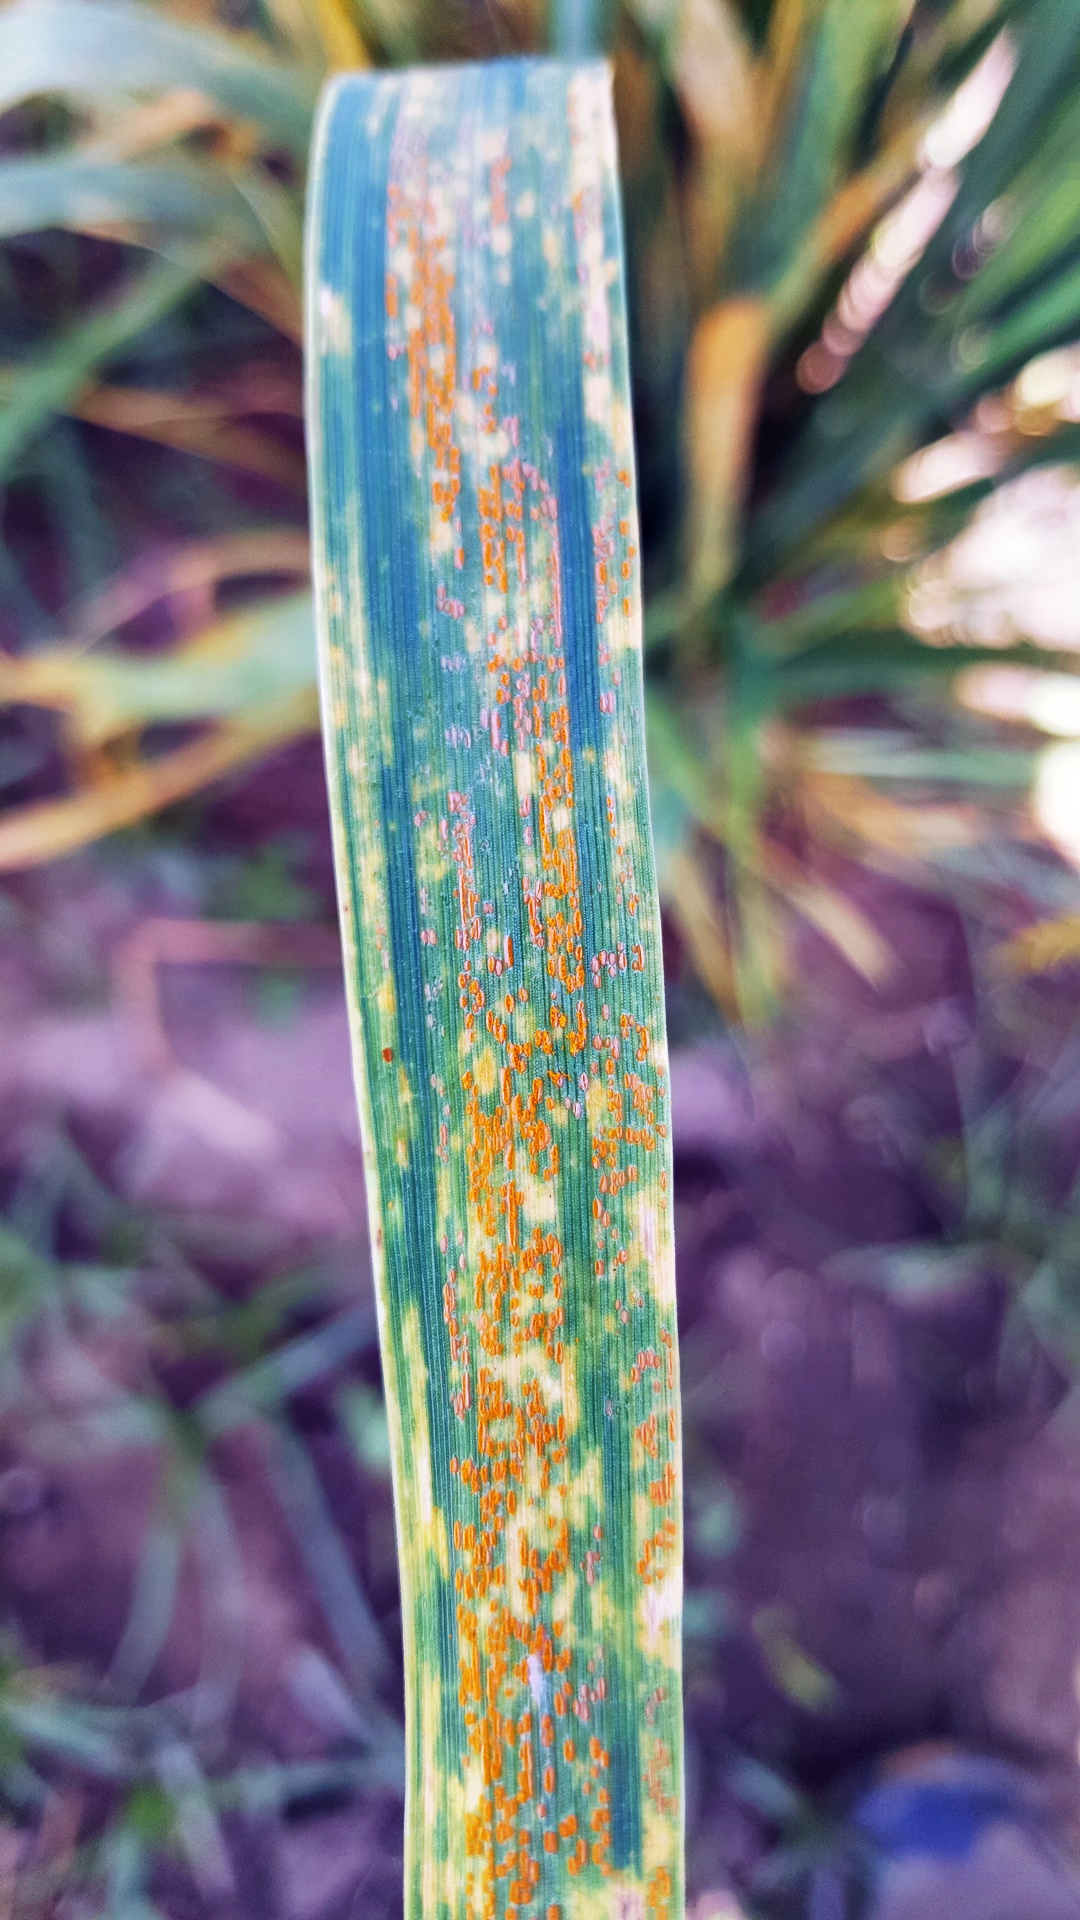Leaf Rust: (310, 208, 720, 1849)
